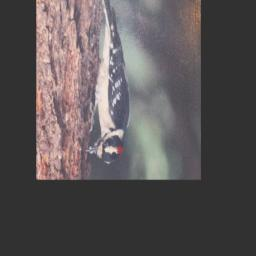Woodpecker: (85, 0, 132, 167)
